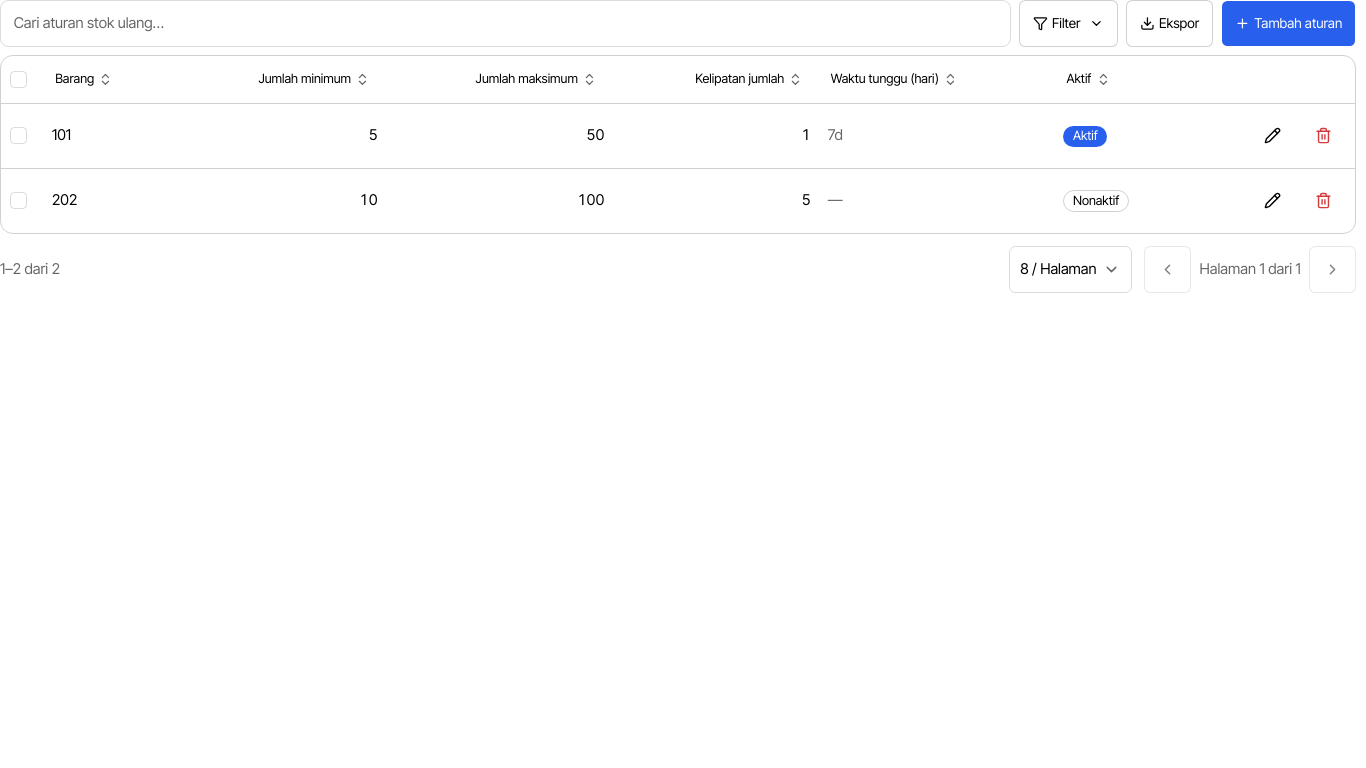
ReorderRulesSection › opens the create dialog from the add button
Expected: the text "101" is shown, [52,126,71,144]
Click the button "Tambah aturan": point(1289, 23) [1221,0,1356,47]
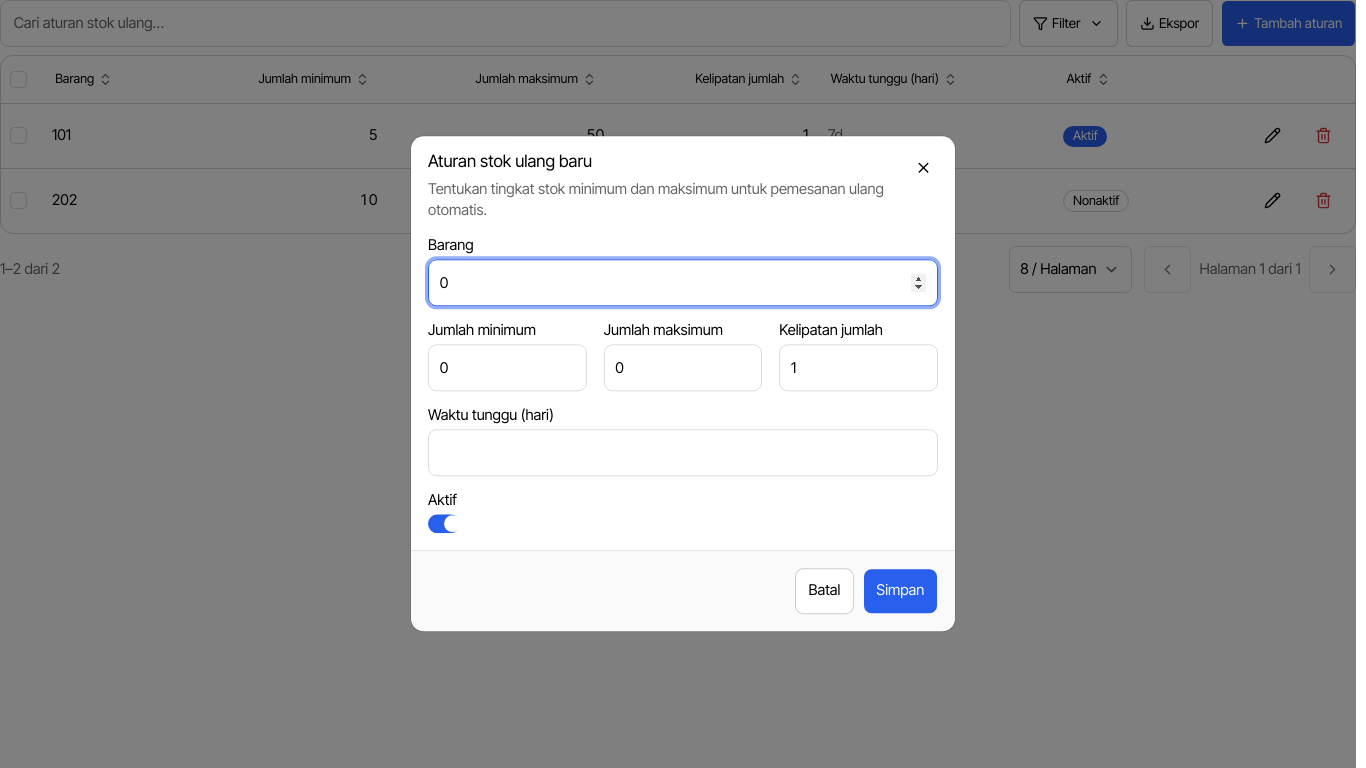
Now the heading "Aturan stok ulang baru" is shown, box [428,151,592,171]
